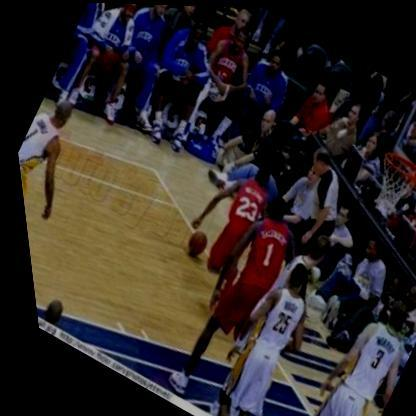basketball: (29, 291, 70, 330), (174, 222, 211, 260)
rim: (349, 141, 416, 226)
